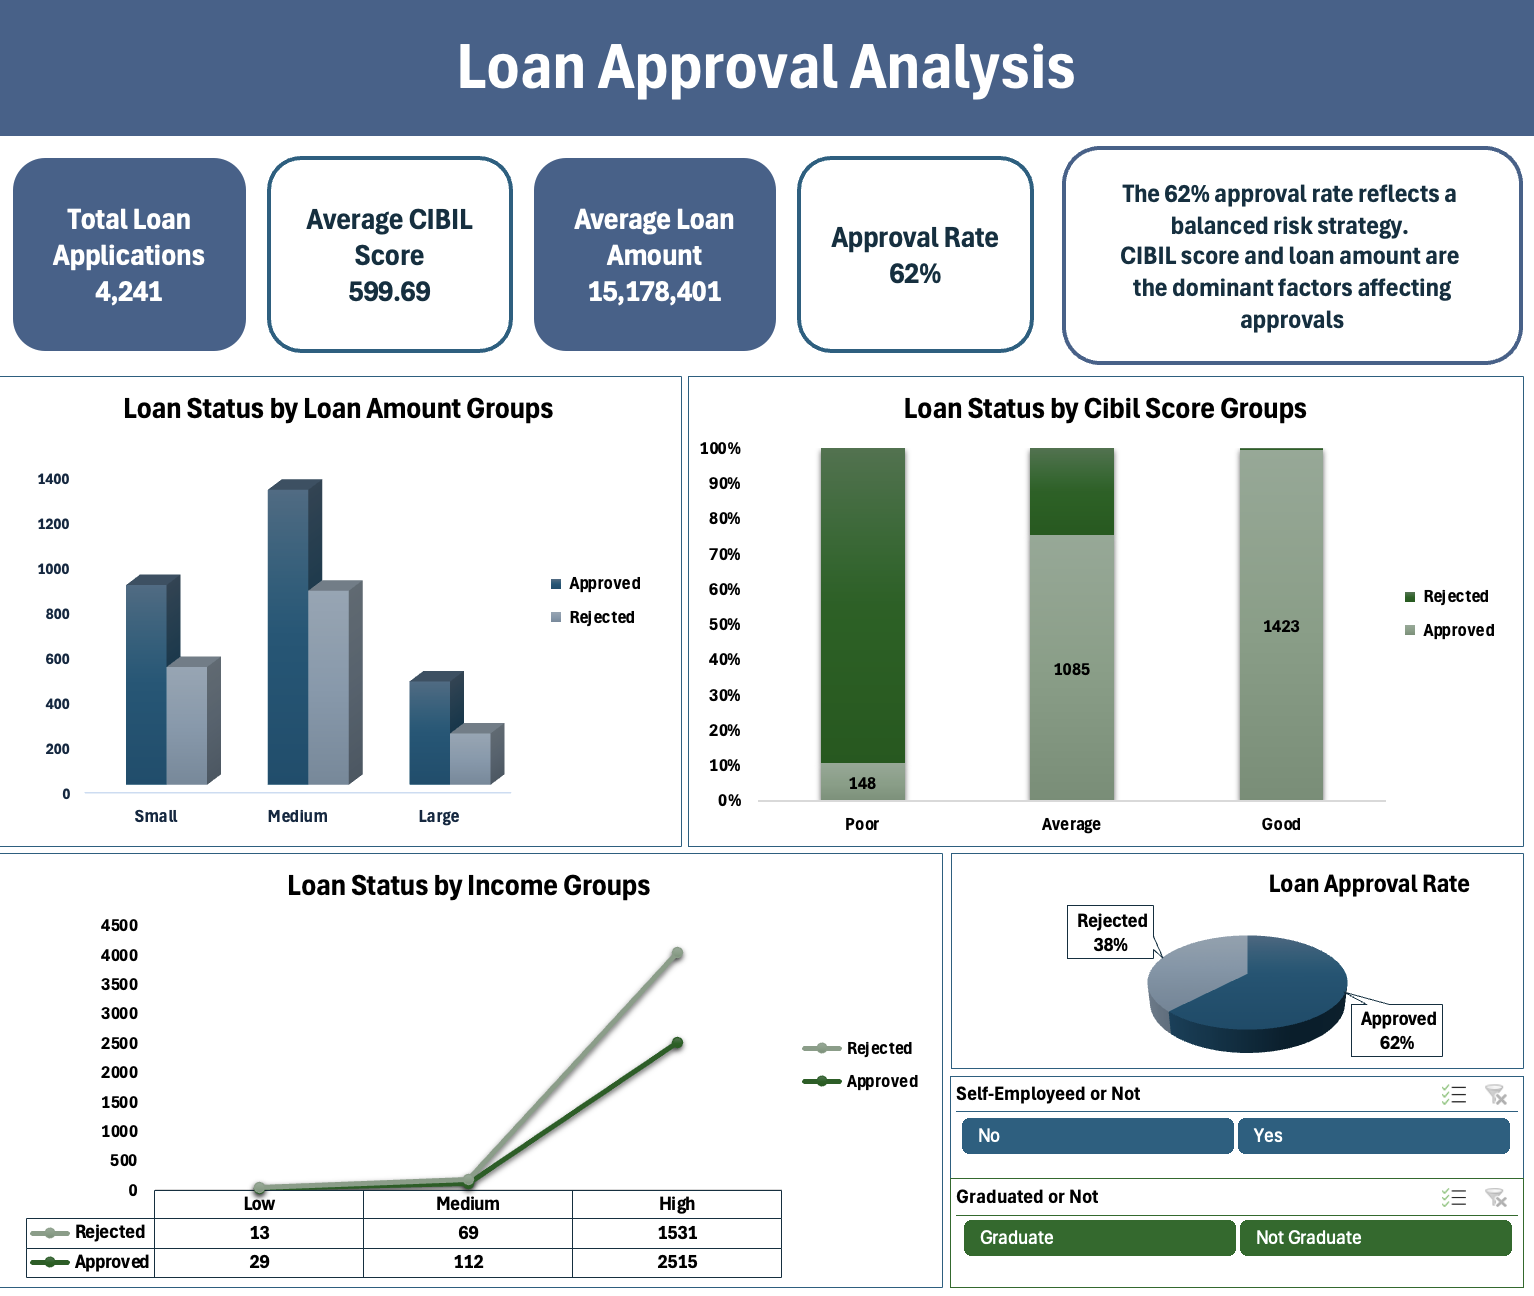

This screenshot's page, from the dashboard's own definition file:
{"tool":"powerbi","page":{"name":"Duplicate of Page 1","canvas":[1500,850],"ordinal":0},"visuals":[{"type":"textbox","box":[0,0,1500,101.8],"z":0},{"type":"cardVisual","fields":{"Data":["Count(loan_approval_dataset.loan_id)"]},"box":[451.8,120.3,269.1,242.7],"z":1000,"group":"g1"},{"type":"hundredPercentStackedBarChart","title":"Loan Approval Rate by CIBIL Score Group","fields":{"Category":["loan_approval_dataset.Cibil Score Groups","loan_approval_dataset. cibil_score"],"Y":["CountNonNull(loan_approval_dataset. loan_status)"],"Series":["loan_approval_dataset. loan_status"]},"box":[966.5,120.7,509,314],"z":1000},{"type":"lineChart","title":"Loan Approval by Loan Amount Groups","fields":{"Category":["loan_approval_dataset.Loan Amount Groups","loan_approval_dataset. loan_amount"],"Y":["CountNonNull(loan_approval_dataset. loan_status)"],"Series":["loan_approval_dataset. loan_status"]},"box":[18,545.5,421.8,289.1],"z":2000},{"type":"textbox","box":[475,704,458,75],"z":3000},{"type":"cardVisual","fields":{"Rows":["loan_approval_dataset.loan_status"],"Data":["loan_approval_dataset.total"]},"box":[484,363,439,195],"z":4000},{"type":"group","id":"g1","title":"Group 1","box":[451.8,120.3,495.2,244.7],"z":5000},{"type":"clusteredColumnChart","title":"Loan Approval by Income Group","fields":{"Category":["Loan Approval.Income Groups","loan_approval_dataset. income_annum"],"Y":["CountNonNull(loan_approval_dataset. loan_status)"],"Series":["loan_approval_dataset. loan_status"]},"box":[18,111,421.8,420.9],"z":6000},{"type":"lineChart","title":"Loan Approval by Loan Term","fields":{"Category":["loan_approval_dataset. loan_term"],"Y":["CountNonNull(loan_approval_dataset. loan_status)"],"Series":["loan_approval_dataset. loan_status"]},"box":[967,457,508.2,377.3],"z":7000},{"type":"cardVisual","fields":{"Data":["loan_approval_dataset.Measure"]},"box":[704,121,243,139],"z":8000,"group":"g1"},{"type":"advancedSlicerVisual","title":"Self-employeed or Not","fields":{"Values":["loan_approval_dataset. self_employed"]},"box":[569,575,270,99],"z":8000},{"type":"cardVisual","fields":{"Data":["loan_approval_dataset.Av_Loan"]},"box":[704,226,240,139],"z":9001,"group":"g1"}]}

Visuals, with their boxes on the page's 1500x850 design canvas (x1, y1, x2, y2). These are canvas units, not pixel positions in the 1534x1296 screenshot, which may show the page scaled, cropped or inside an application window:
textbox: left=0, top=0, right=1500, bottom=102
cardVisual - Count(loan_approval_dataset.loan_id): left=452, top=120, right=721, bottom=363
"Loan Approval Rate by CIBIL Score Group" hundredPercentStackedBarChart: left=966, top=121, right=1476, bottom=435
"Loan Approval by Loan Amount Groups" lineChart: left=18, top=546, right=440, bottom=835
textbox: left=475, top=704, right=933, bottom=779
cardVisual - loan_approval_dataset.loan_status x loan_approval_dataset.total: left=484, top=363, right=923, bottom=558
"Group 1" group: left=452, top=120, right=947, bottom=365
"Loan Approval by Income Group" clusteredColumnChart: left=18, top=111, right=440, bottom=532
"Loan Approval by Loan Term" lineChart: left=967, top=457, right=1475, bottom=834
cardVisual - loan_approval_dataset.Measure: left=704, top=121, right=947, bottom=260
"Self-employeed or Not" advancedSlicerVisual: left=569, top=575, right=839, bottom=674
cardVisual - loan_approval_dataset.Av_Loan: left=704, top=226, right=944, bottom=365
